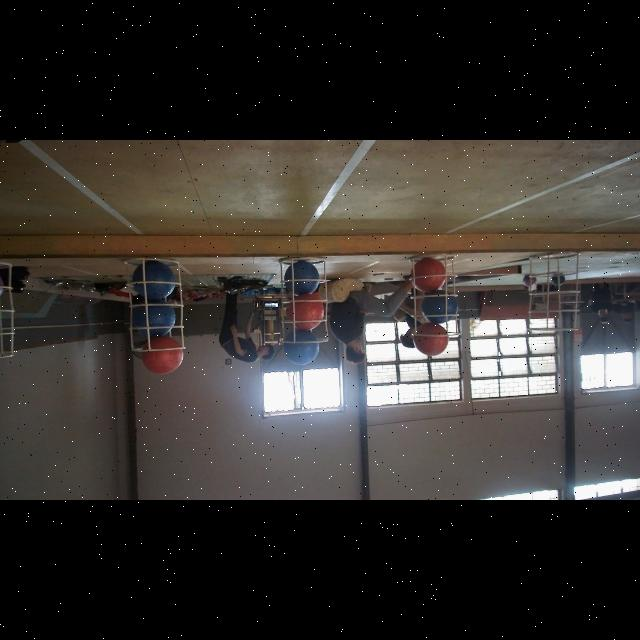B: (133, 260, 175, 298), (134, 300, 176, 336), (284, 260, 320, 296), (422, 290, 458, 324), (284, 330, 318, 364)
R: (142, 336, 184, 374), (287, 293, 325, 329), (412, 256, 446, 292), (413, 324, 449, 356)
